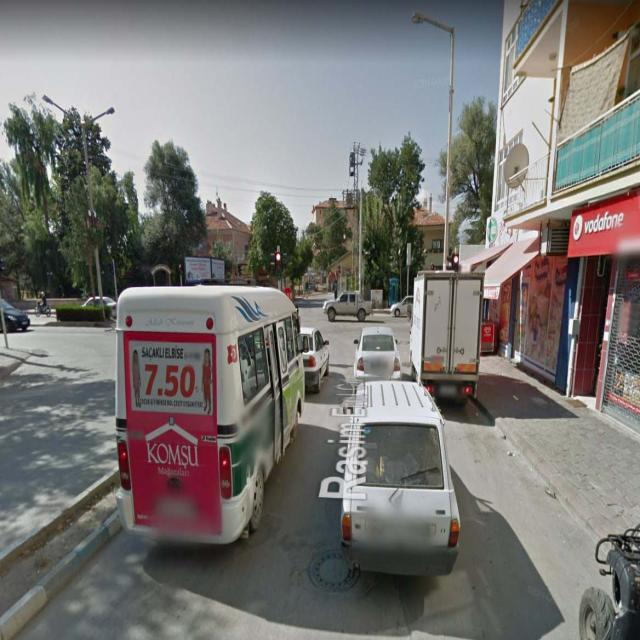dur: (282, 287, 292, 301)
kirmizi: (276, 252, 282, 279)
